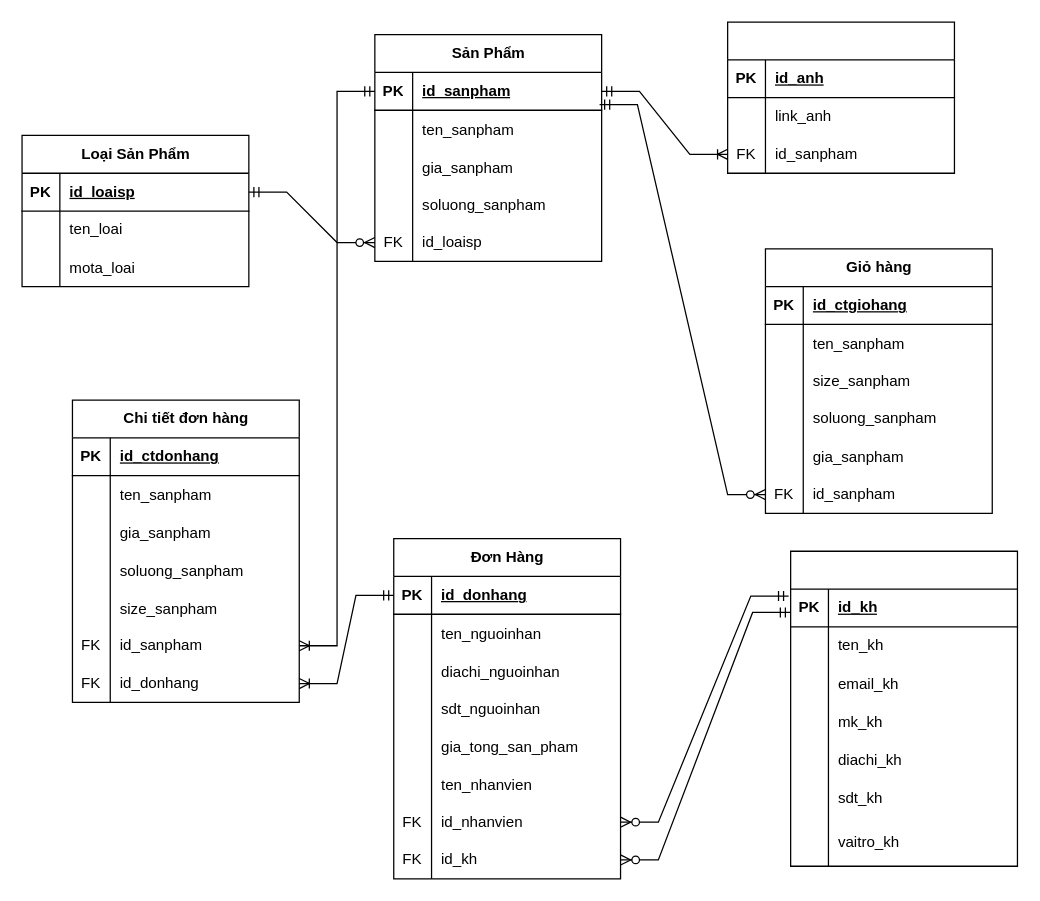
This 1040x901 diagram has some shape labels left out. The box of each missing label's shape, as (x1, y1, x2, y2) in pixels:
User: (789, 550, 1017, 866)
Ảnh Sản Phẩm: (726, 21, 954, 173)
